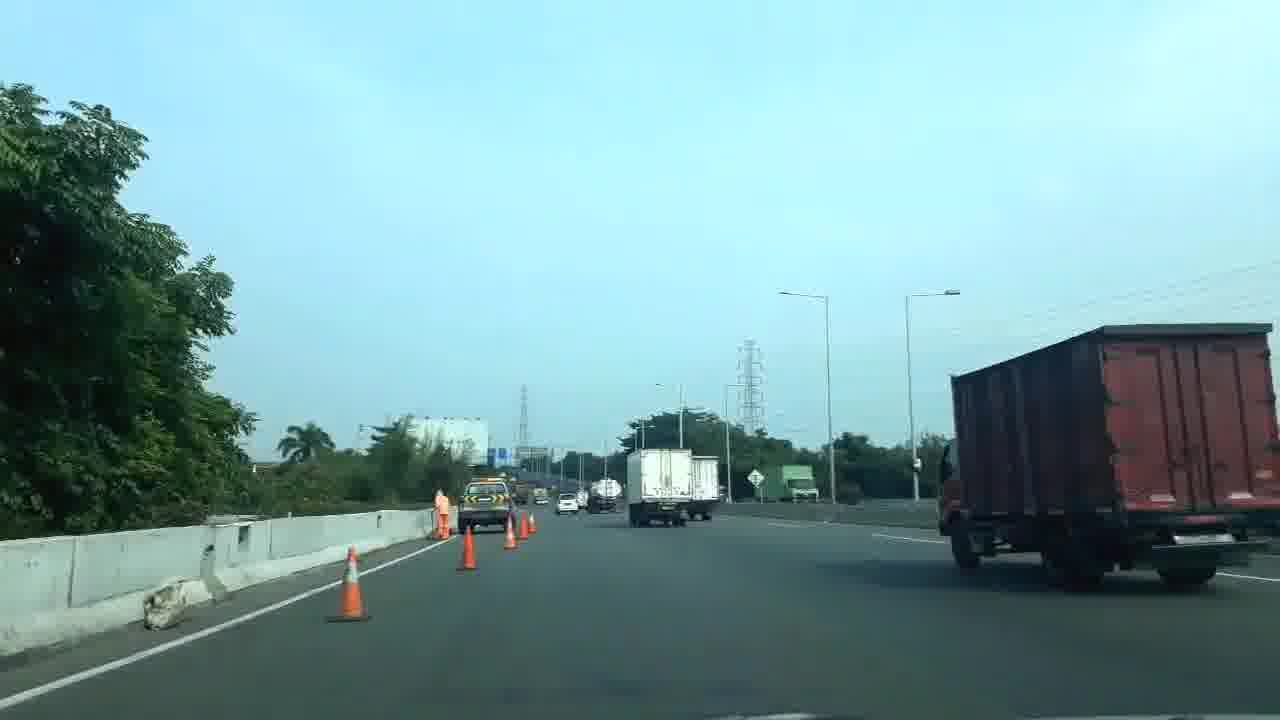plate_positive: (1173, 531, 1237, 544)
